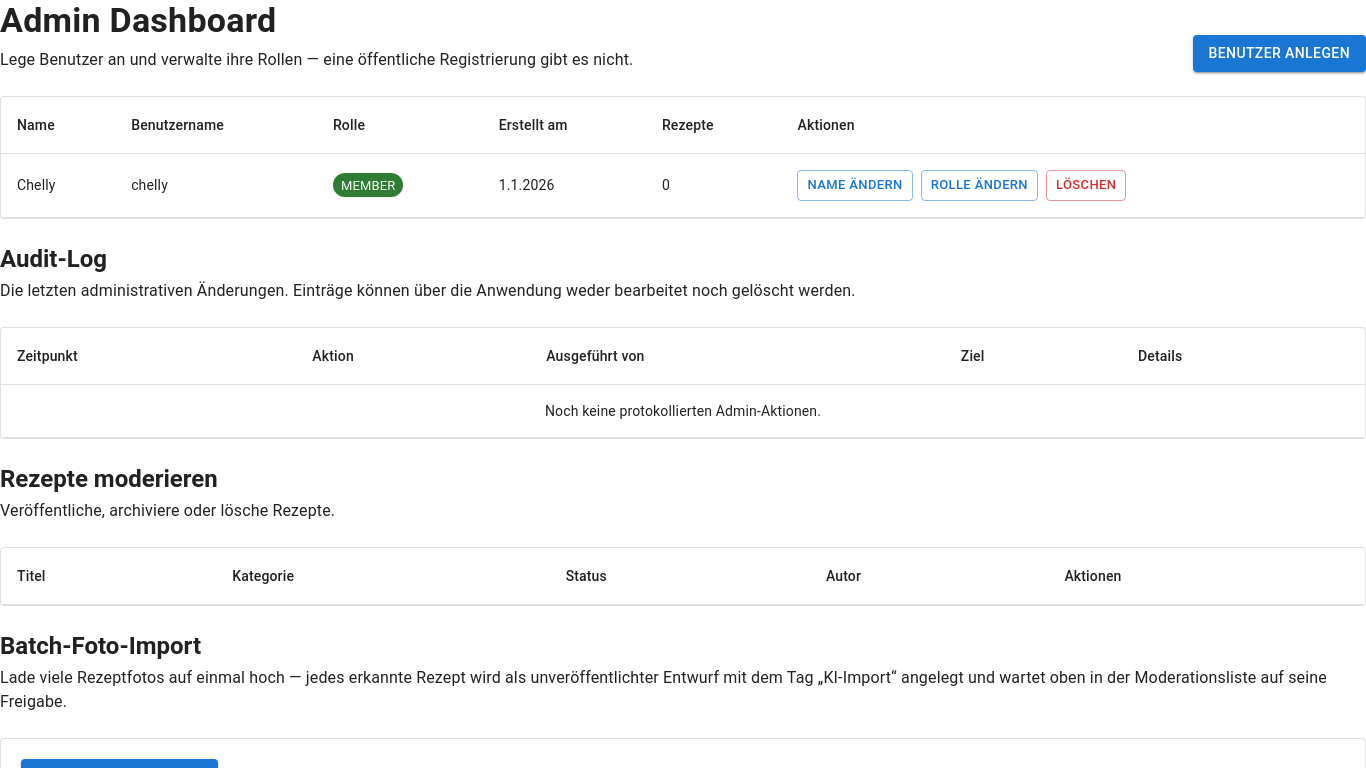
AdminDashboard user creation › changes a user name
This screenshot has width=1366, height=768.
Click the button "Name ändern": click(855, 185) x1=798 y1=170 x2=913 y2=201
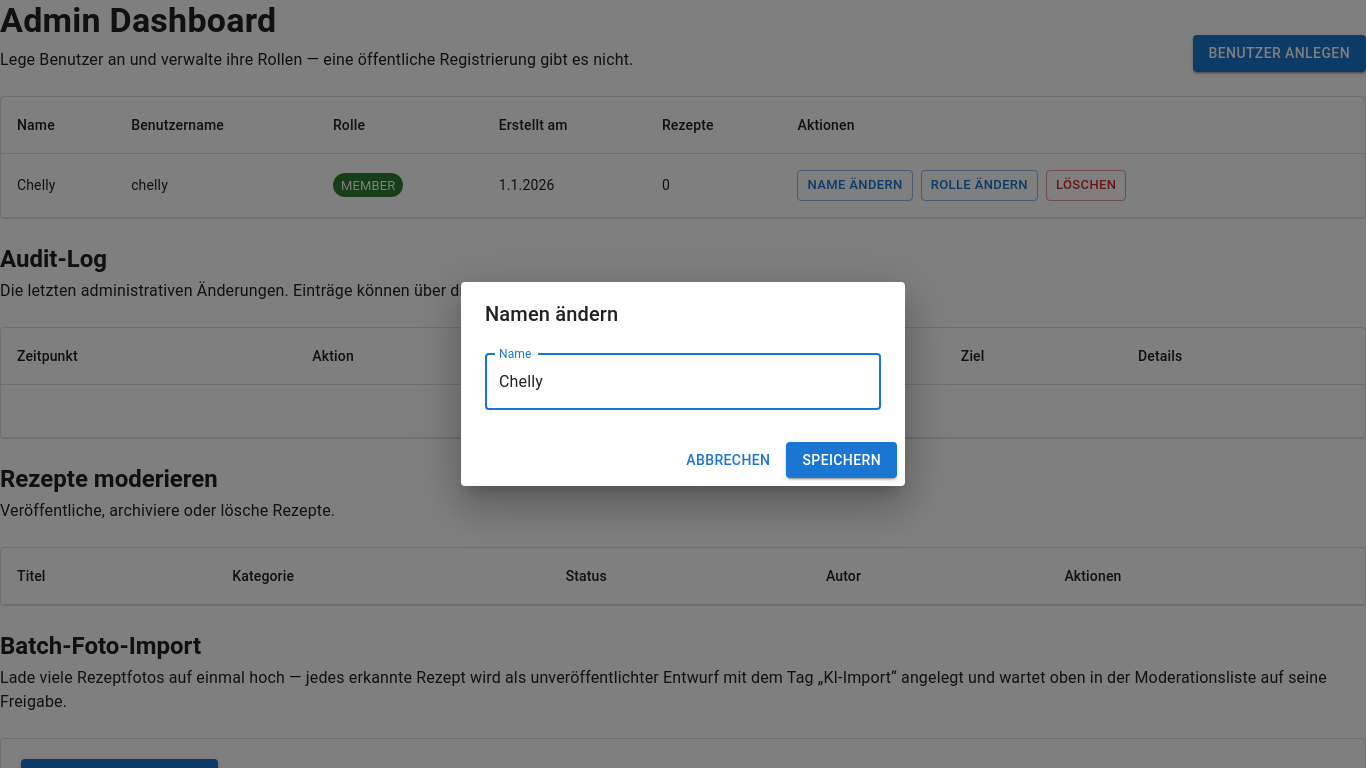
Replace the text in the field labelled "Name" with "Chelly Kocht": (683, 382) x1=485 y1=354 x2=881 y2=410
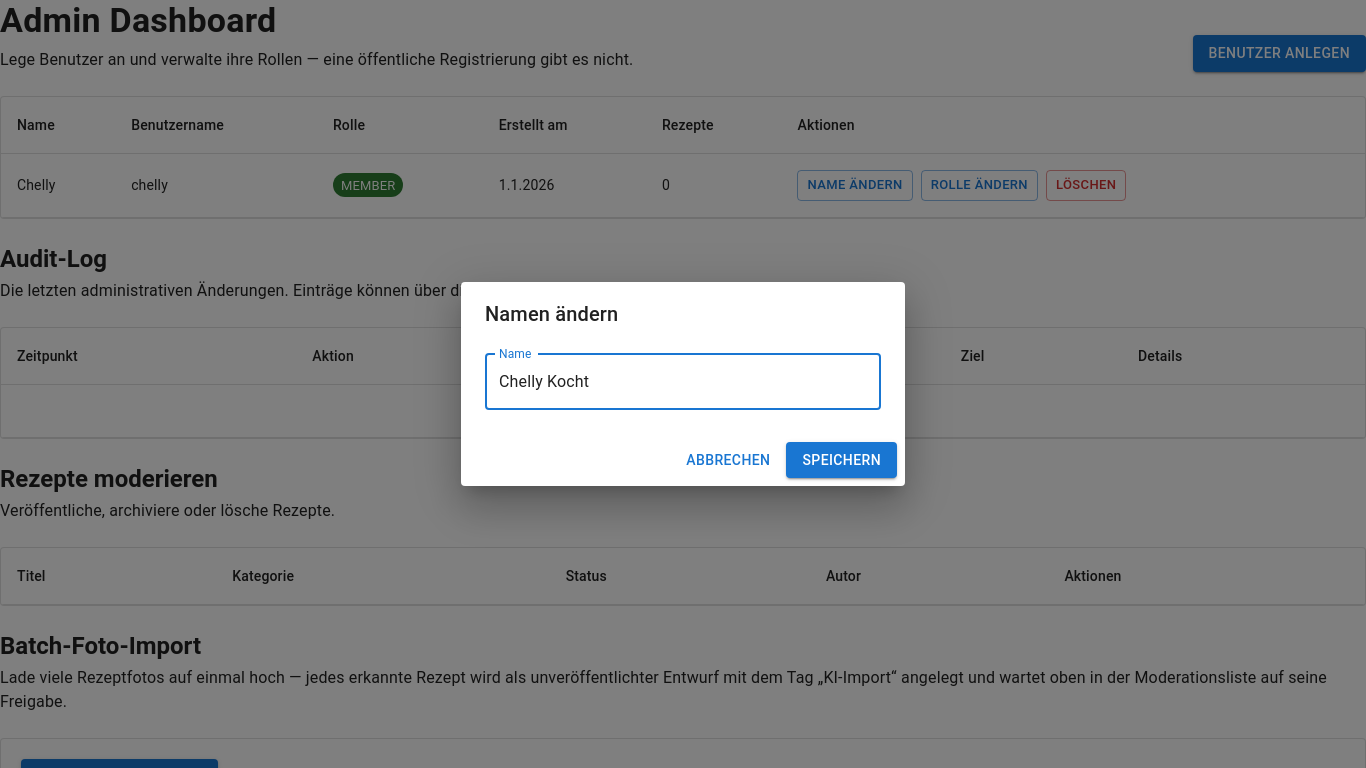
Click the button "Speichern": click(842, 460) x1=786 y1=442 x2=897 y2=478
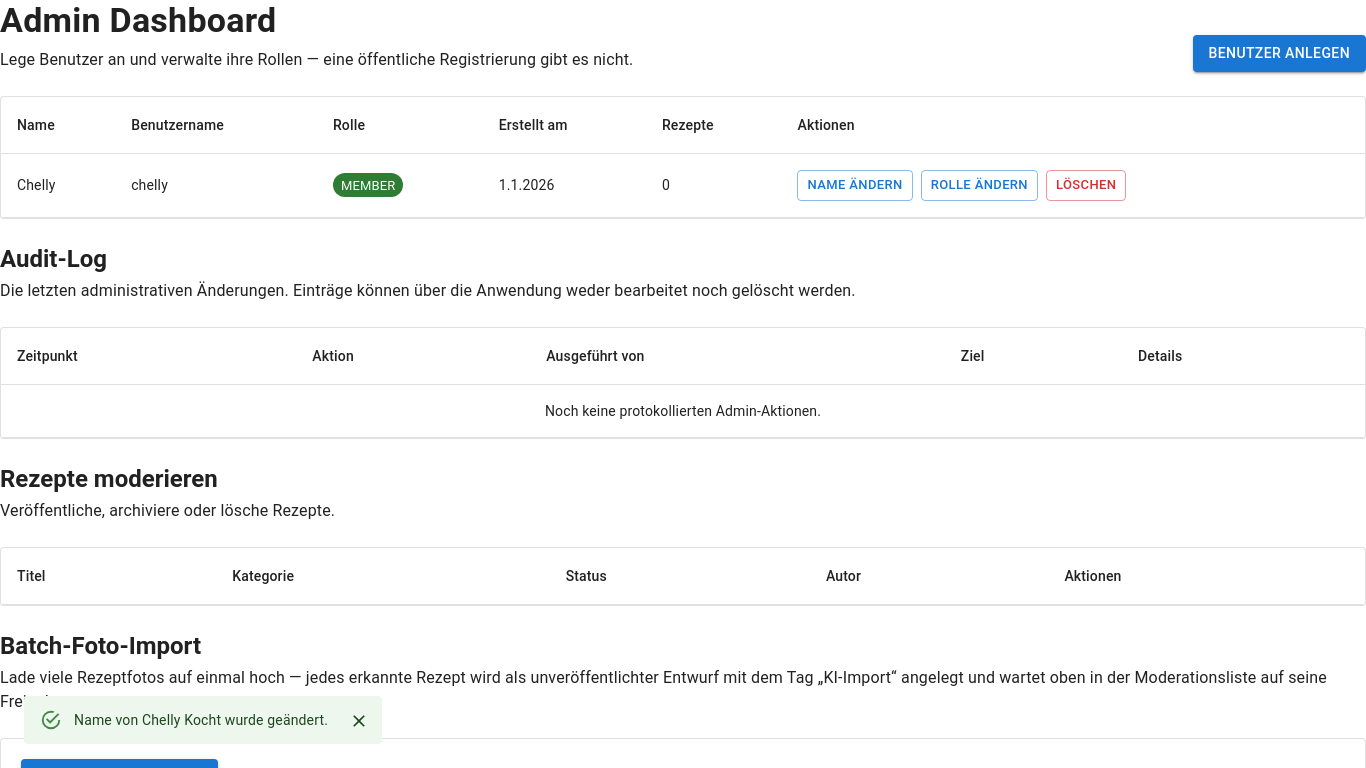
Expected: the text "Name von Chelly Kocht wurde geändert." is shown, x1=74 y1=712 x2=328 y2=728
